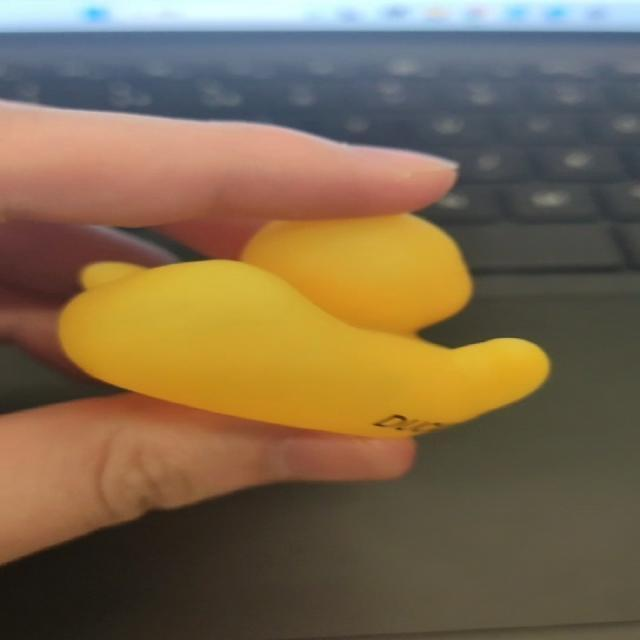rubber-duck: (58, 213, 547, 435)
